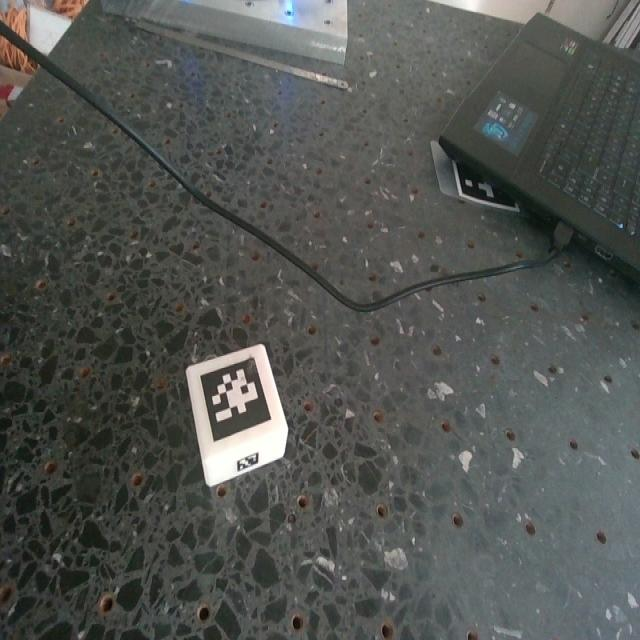Cube: (185, 345, 289, 493)
